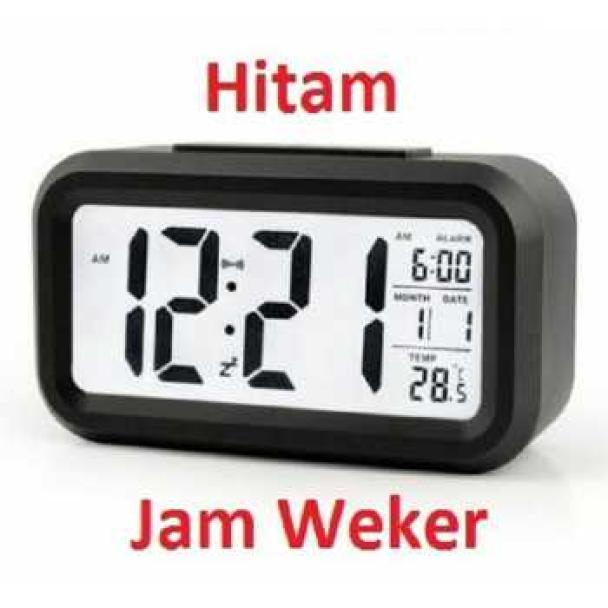Jam: (26, 141, 576, 483)
